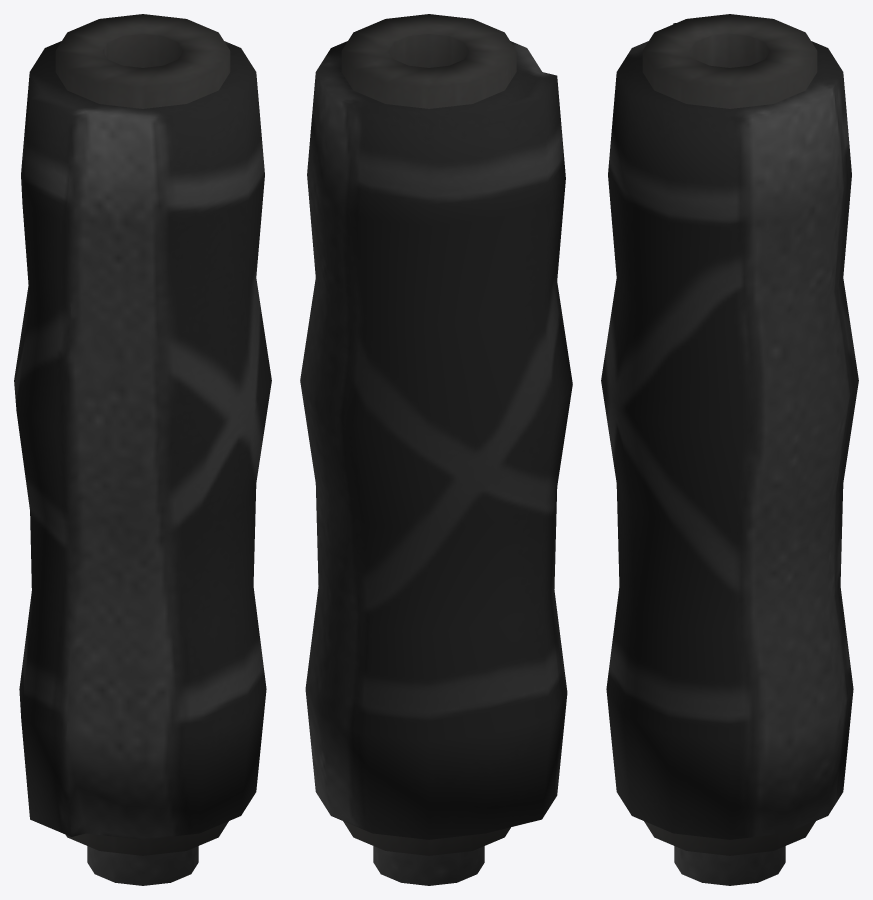
File: TLOG_MilitarySuppressor.fbx
3 views of the same model, side by side, from view 1: azimuth 30°, elevation 25°; view 2: azimuth 150°, elevation 25°; view 3: azimuth 270°, elevation 25° (orthographic).
Visible parts, largest first — view 1: Cylinder; view 2: Cylinder; view 3: Cylinder.
Part boxes in pixels (box(x1,y1,x2,y2)): Cylinder: box(14, 14, 271, 885); Cylinder: box(300, 14, 572, 885); Cylinder: box(601, 14, 858, 885).
Bounding box in the file's own units: 0.0398 × 0.1295 × 0.0373.
